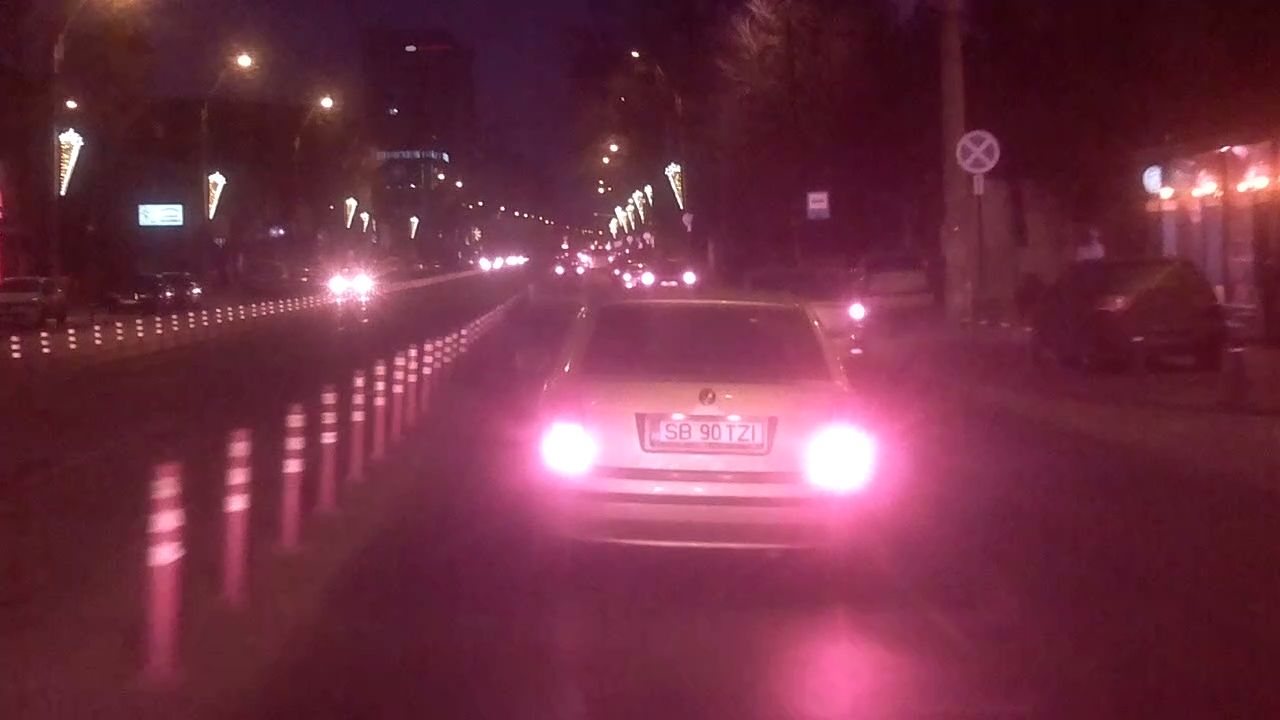license-plate: (645, 417, 767, 449)
